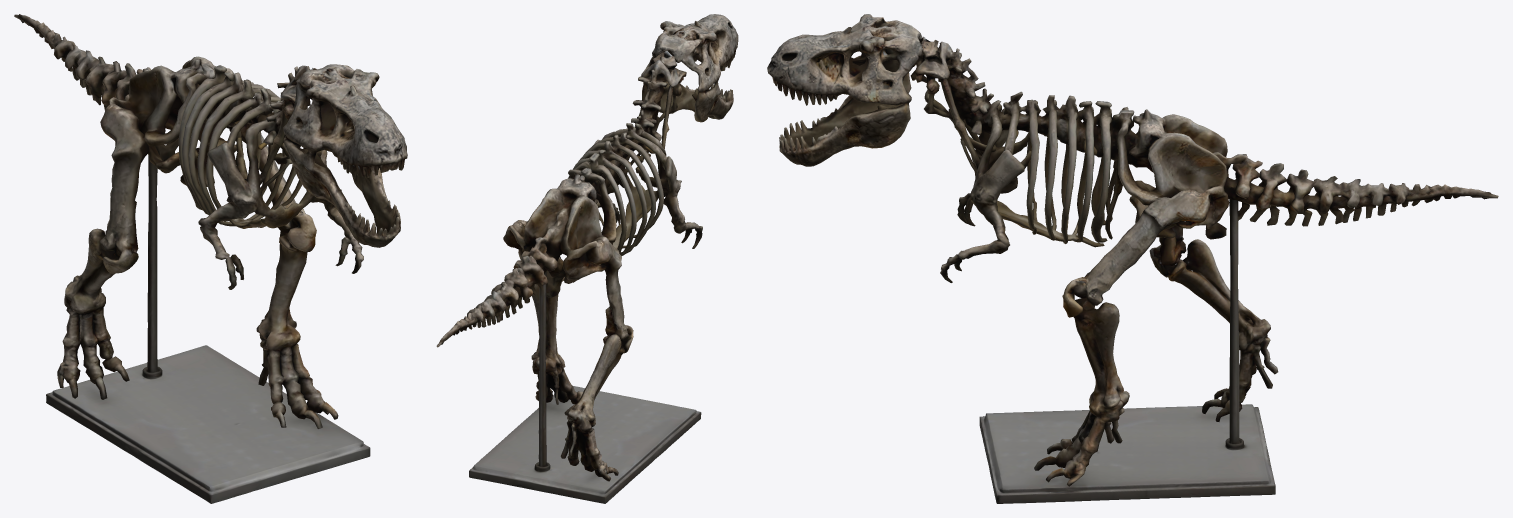
The model's file is TrexSkeleton.fbx.
3 renders of one model, left to right at view 1: azimuth 30°, elevation 25°; view 2: azimuth 150°, elevation 25°; view 3: azimuth 270°, elevation 25°, orthographic. The views are drawn at different scales.
Visible parts, largest first — view 1: TrexSkeleton; view 2: TrexSkeleton; view 3: TrexSkeleton.
Part boxes in pixels (x1=…): TrexSkeleton: x1=14, y1=14, x2=407, y2=503; TrexSkeleton: x1=436, y1=14, x2=738, y2=503; TrexSkeleton: x1=767, y1=14, x2=1498, y2=503.
Bounding box in the file's own units: 3.44 × 7.85 × 12.
1 material, 1 textured.
